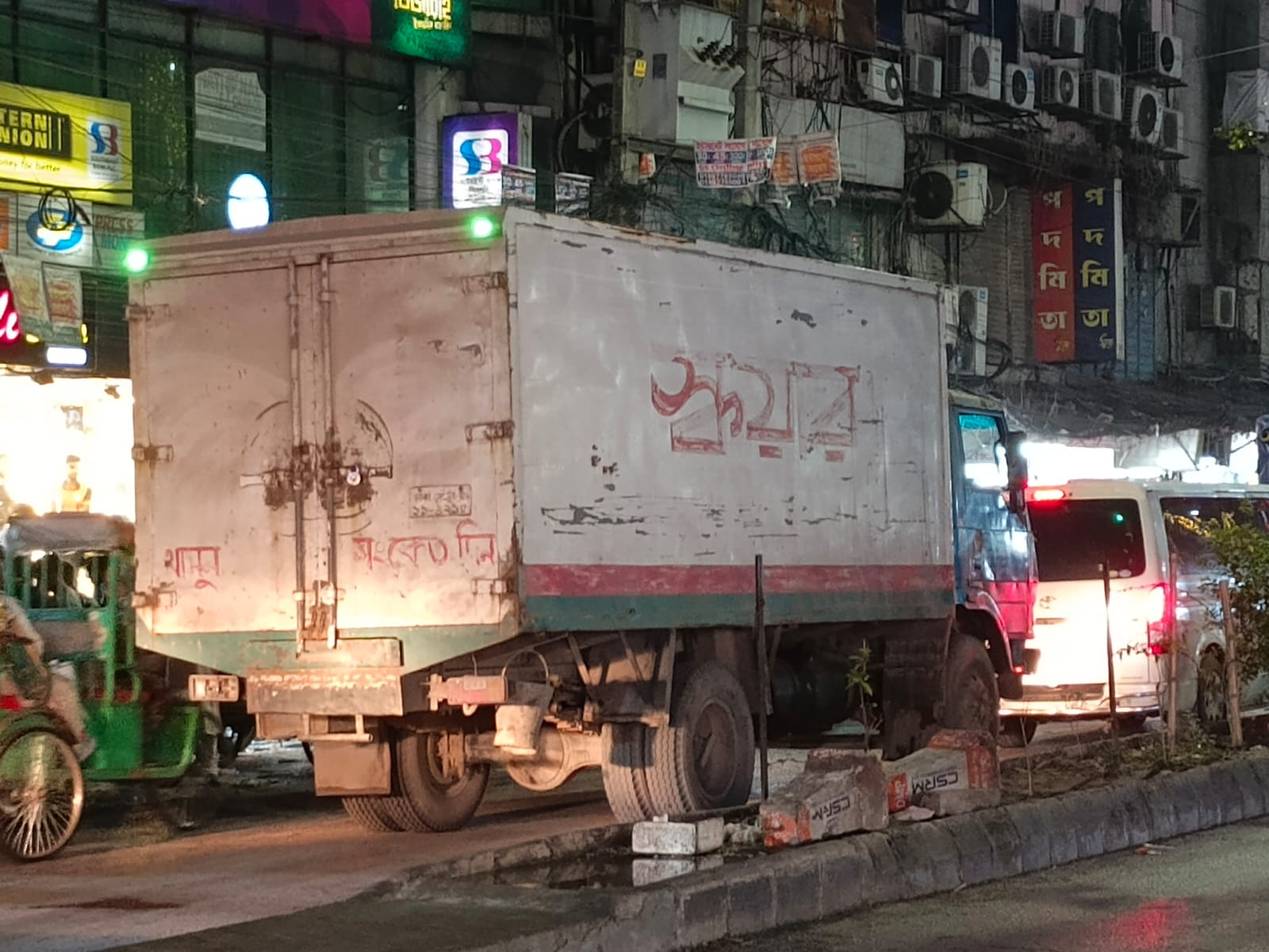Truck: (106, 191, 1047, 830)
private car: (1034, 466, 1269, 742)
